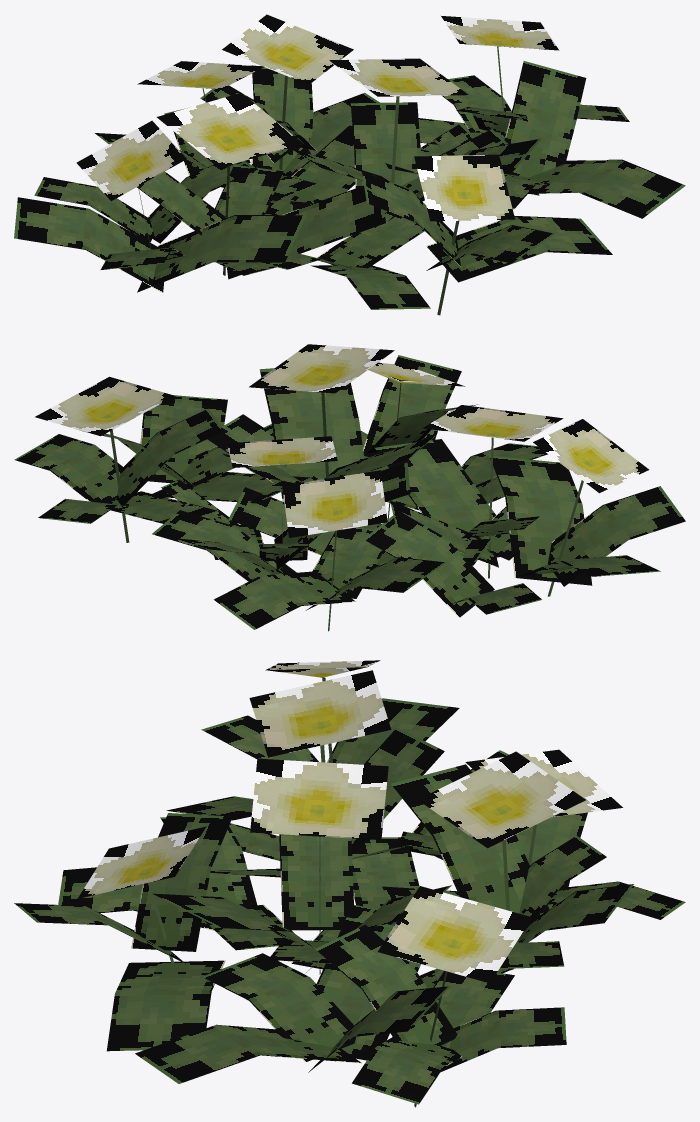
The model's file is plants_area04_grass01.gltf.
3 renders of one model, top to bottom at view 1: azimuth 30°, elevation 25°; view 2: azimuth 150°, elevation 25°; view 3: azimuth 270°, elevation 25°, orthographic. The views are drawn at different scales.
Parts seen in each view (by area): view 1: plants_area04_grass01; view 2: plants_area04_grass01; view 3: plants_area04_grass01.
Boxes of the visible parts, bbox=[...] form: plants_area04_grass01: bbox=[14, 14, 685, 315]; plants_area04_grass01: bbox=[14, 344, 685, 631]; plants_area04_grass01: bbox=[14, 660, 685, 1107].
Bounding box in the file's own units: 0.7754 × 0.2482 × 0.5973.
Materials: 1 (1 with a texture image).
